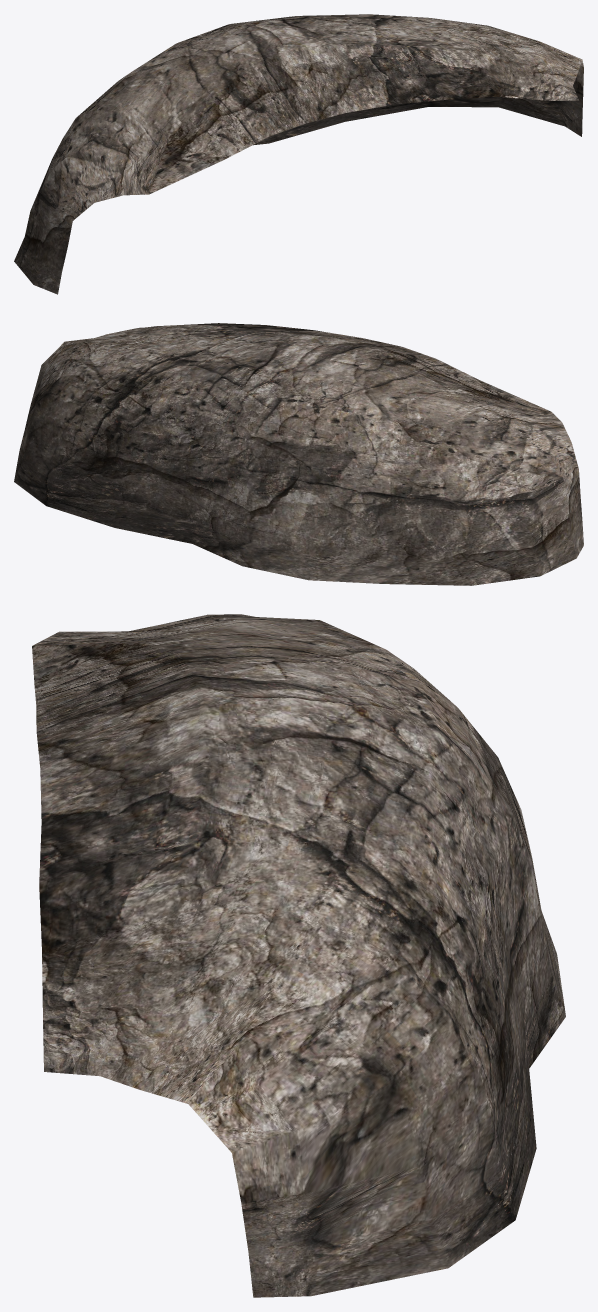
File: Ext_Rock_AngleOut_01.FBX
3 views of the same model, one above another, from view 1: azimuth 30°, elevation 25°; view 2: azimuth 150°, elevation 25°; view 3: azimuth 270°, elevation 25° (orthographic). The views are drawn at different scales.
Parts seen in each view (by area): view 1: Ext_Rock_AngleOut_01; view 2: Ext_Rock_AngleOut_01; view 3: Ext_Rock_AngleOut_01.
Boxes of the visible parts, bbox=[...] form: Ext_Rock_AngleOut_01: bbox=[14, 14, 583, 294]; Ext_Rock_AngleOut_01: bbox=[14, 323, 583, 585]; Ext_Rock_AngleOut_01: bbox=[32, 614, 565, 1297].
Bounding box in the file's own units: 16940 × 4938 × 7381.
